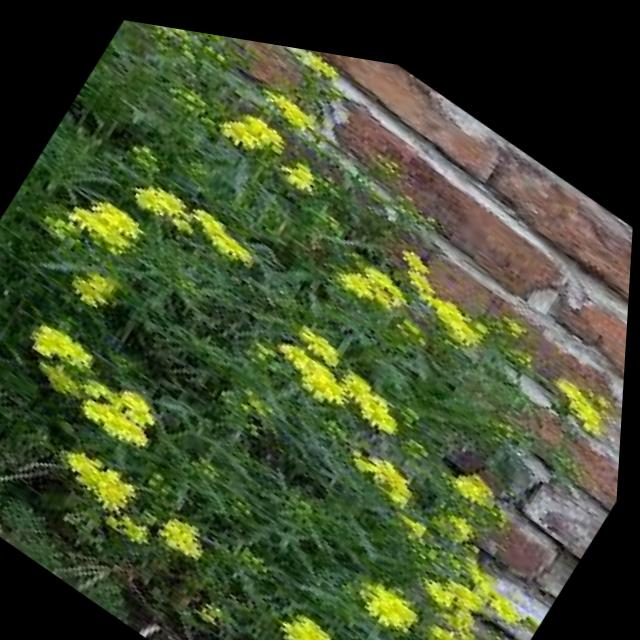Flower: (389, 238, 507, 347), (66, 357, 174, 462), (193, 89, 292, 185), (55, 428, 151, 513), (438, 538, 540, 618), (182, 194, 278, 276), (267, 324, 355, 406), (540, 348, 627, 428), (119, 156, 208, 233), (332, 237, 420, 312), (79, 180, 155, 257), (21, 308, 102, 377), (412, 538, 493, 607), (361, 561, 438, 632), (256, 70, 334, 137), (356, 439, 427, 504), (233, 92, 305, 153), (159, 495, 224, 560), (345, 368, 408, 429), (292, 306, 357, 365), (449, 441, 510, 499), (292, 38, 352, 86), (292, 598, 347, 640), (434, 481, 486, 525), (437, 607, 479, 640), (290, 155, 327, 192)
